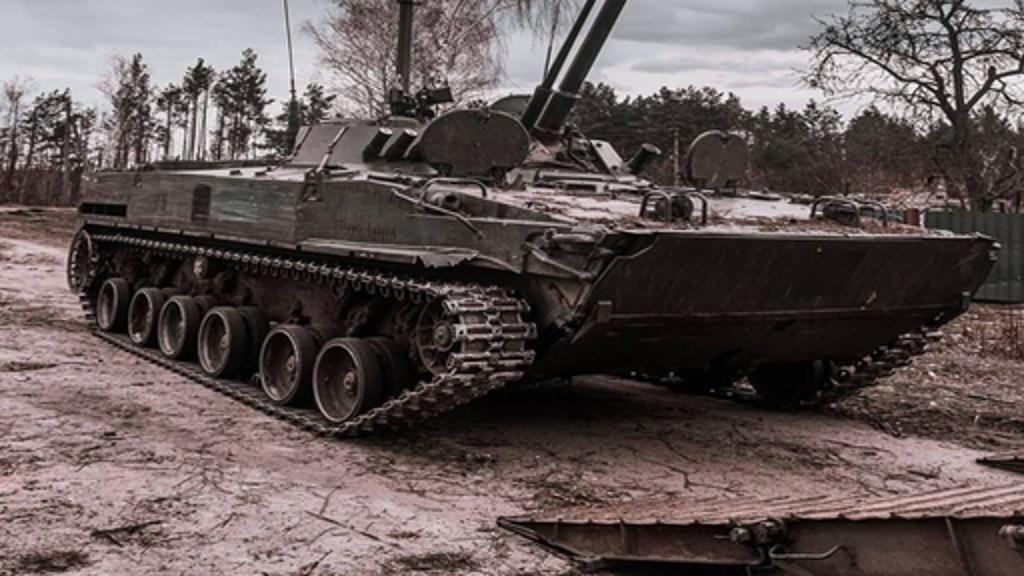APC-IFV: (56, 2, 1008, 448)
